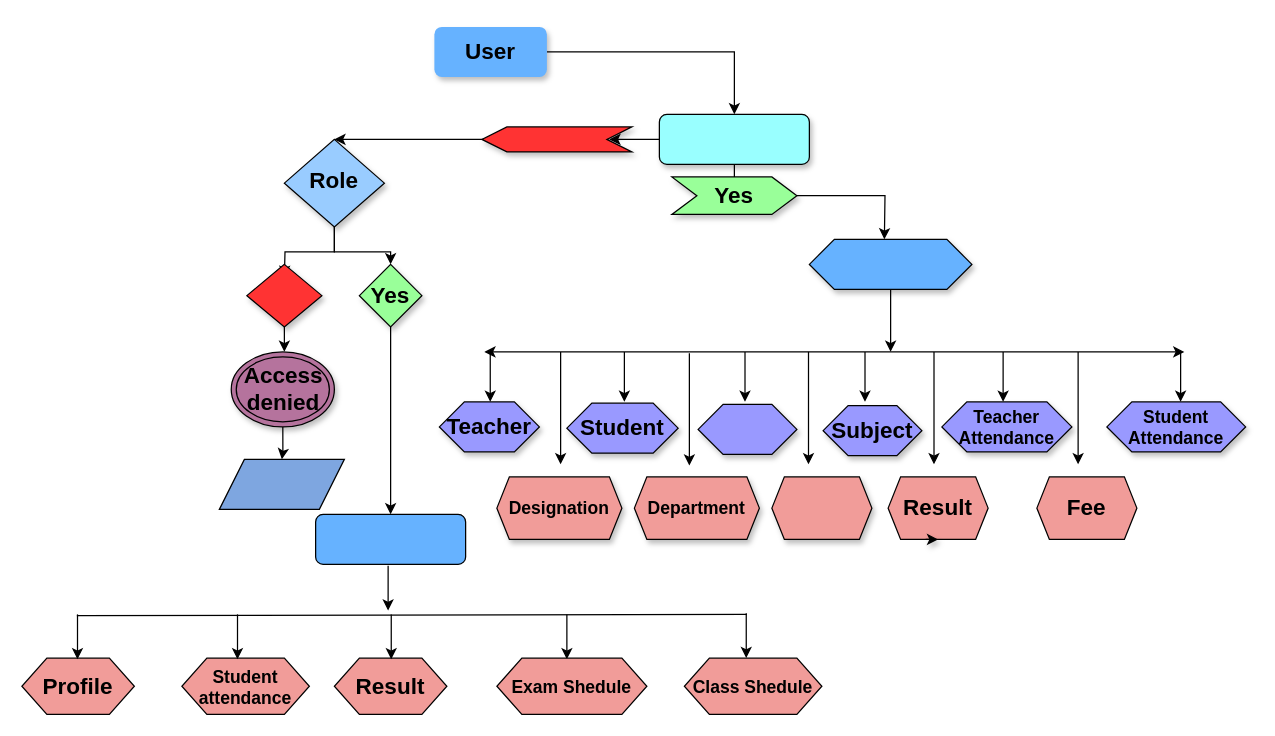
The diagram is 1275 pixels wide and 736 high, and some of its shapes have lost their labels. Here are the shapes that lost their labels. From the top down, the centre of each, then its label:
pixel 557 141: ON
pixel 735 140: Full Access
pixel 891 265: Super Admin
pixel 285 297: No
pixel 748 430: Classes
pixel 281 483: Login
pixel 822 509: Exam
pixel 390 538: Admin
